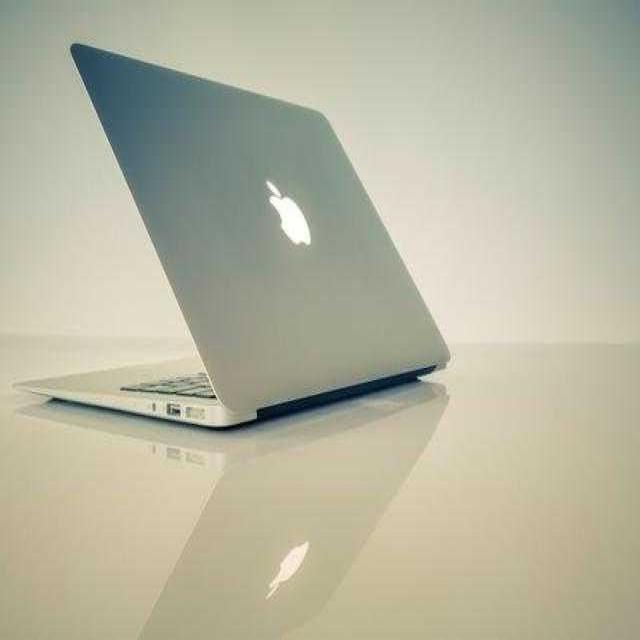laptop: (7, 49, 405, 430)
